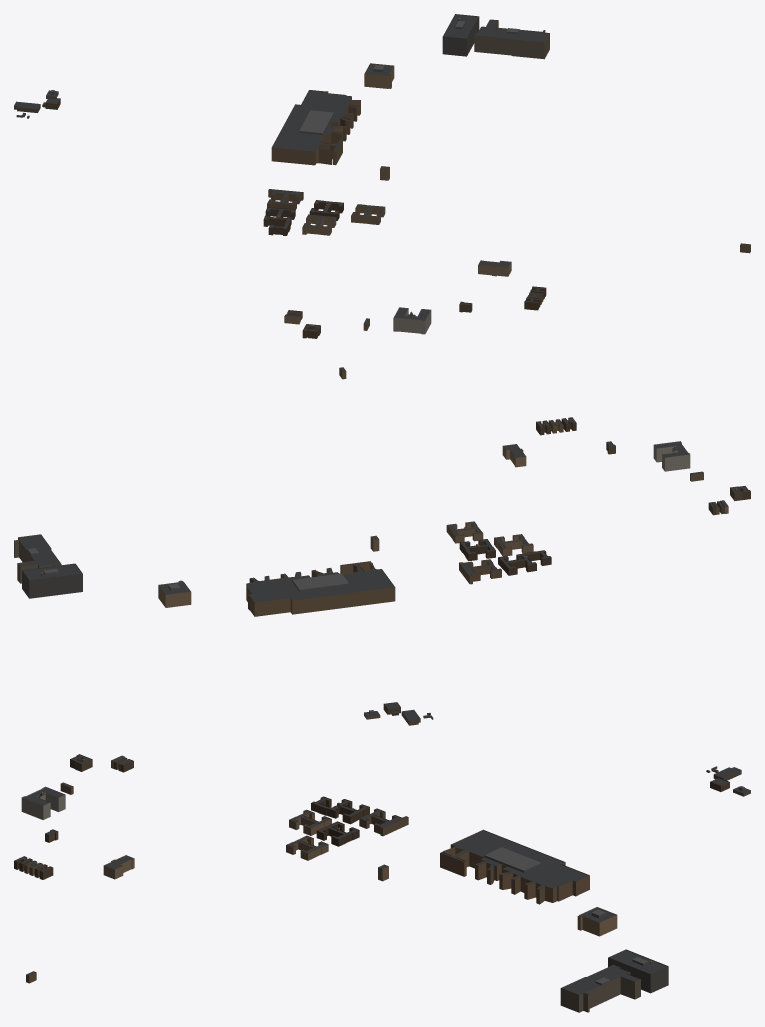
File: manhattan_+03_+00.glb
3 views of the same model, one above another, from view 1: azimuth 30°, elevation 25°; view 2: azimuth 150°, elevation 25°; view 3: azimuth 270°, elevation 25° (orthographic). The views are drawn at different scales.
Parts seen in each view (by area): view 1: BLD_lowrise_+03_+00, BLD_midrise_+03_+00; view 2: BLD_lowrise_+03_+00, BLD_midrise_+03_+00; view 3: BLD_lowrise_+03_+00, BLD_midrise_+03_+00.
Boxes of the visible parts, x1=… form: BLD_lowrise_+03_+00: x1=14, y1=63, x2=750, y2=338; BLD_midrise_+03_+00: x1=442, y1=14, x2=549, y2=59; BLD_lowrise_+03_+00: x1=158, y1=367, x2=750, y2=725; BLD_midrise_+03_+00: x1=14, y1=534, x2=82, y2=598; BLD_lowrise_+03_+00: x1=14, y1=754, x2=750, y2=983; BLD_midrise_+03_+00: x1=560, y1=949, x2=668, y2=1012.
Size of the model in its own units: 997 by 41.93 by 1237.
